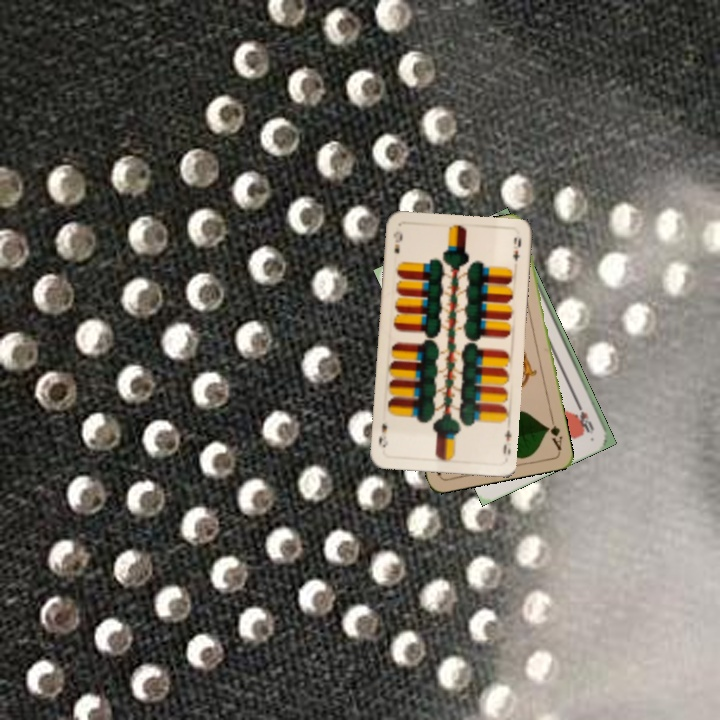E9: (499, 426, 514, 459), (389, 227, 405, 256)
GA: (543, 413, 565, 453)
HO: (573, 399, 597, 434)
